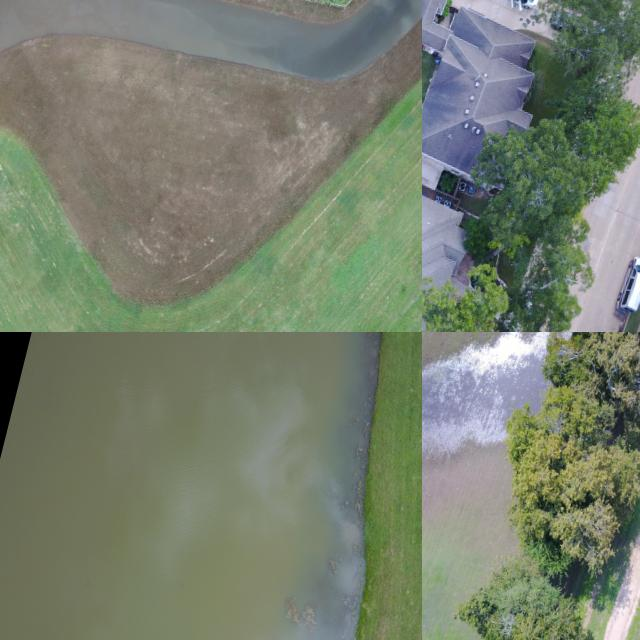fire: (0, 332, 380, 640), (0, 0, 422, 80), (422, 332, 549, 458)
